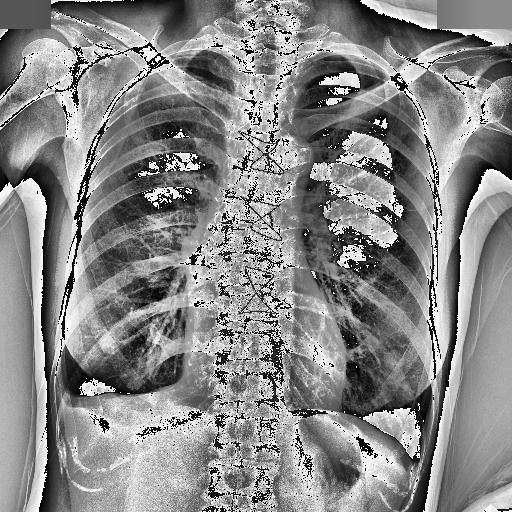0- Aortic enlargement: (263, 132, 315, 184)
10- Pleural effusion: (46, 379, 182, 425), (54, 373, 76, 425), (53, 376, 81, 416), (411, 454, 423, 483), (407, 456, 422, 478)
11- Pleural thickening: (150, 49, 202, 72), (54, 373, 76, 425), (53, 376, 81, 416), (168, 47, 230, 63), (411, 454, 423, 483), (407, 456, 422, 478)
